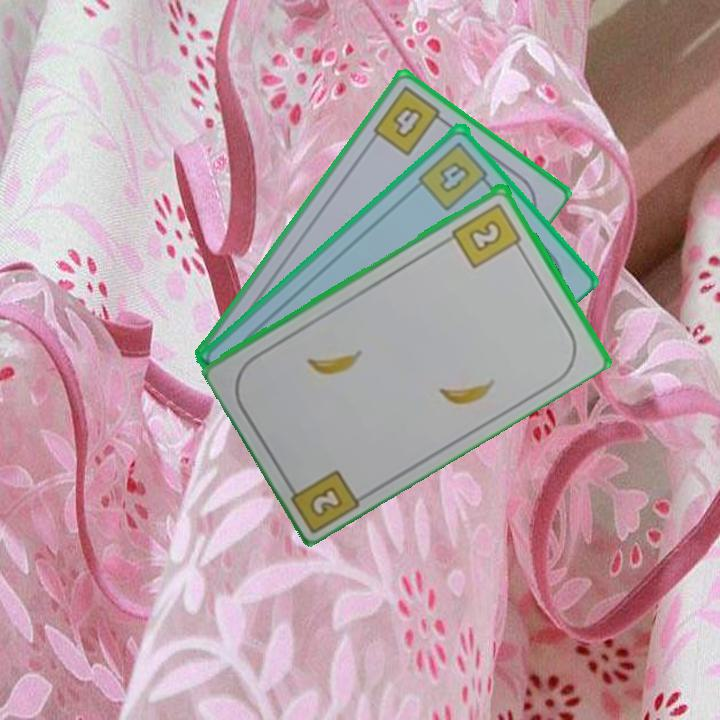2b: (448, 199, 526, 271), (306, 482, 346, 520)
4b: (368, 82, 450, 159), (415, 137, 495, 213)
